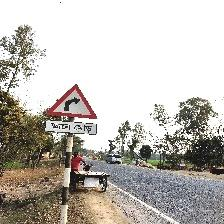Right-turn: (45, 84, 99, 136)
